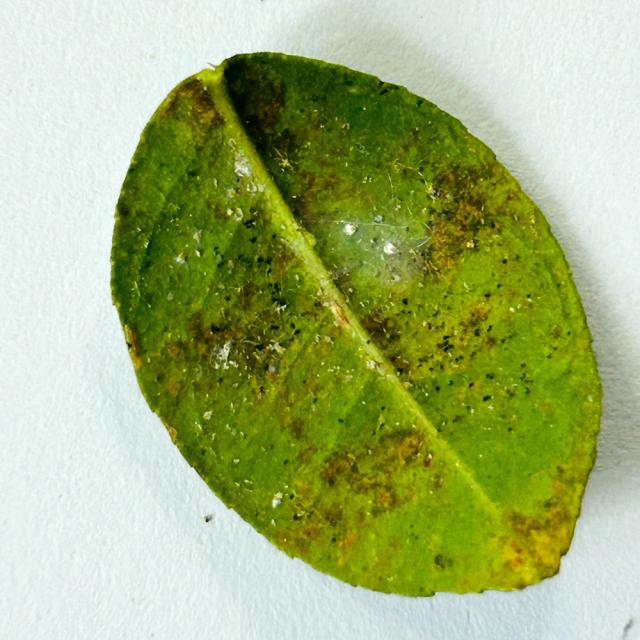Bacterial_Blight: (443, 324, 550, 429), (324, 430, 431, 516), (316, 452, 406, 525), (424, 167, 495, 257), (194, 306, 274, 380), (507, 493, 578, 572), (293, 147, 356, 206), (433, 299, 494, 357), (173, 77, 223, 129), (499, 535, 536, 574), (507, 509, 548, 543), (319, 451, 357, 487), (206, 322, 244, 358), (362, 312, 399, 346), (270, 241, 300, 277), (394, 433, 426, 466), (234, 283, 265, 314), (286, 415, 308, 443), (322, 502, 346, 527), (186, 310, 206, 339), (164, 377, 183, 399), (469, 305, 488, 323), (165, 341, 183, 359)
Lemon: (108, 53, 604, 602)
